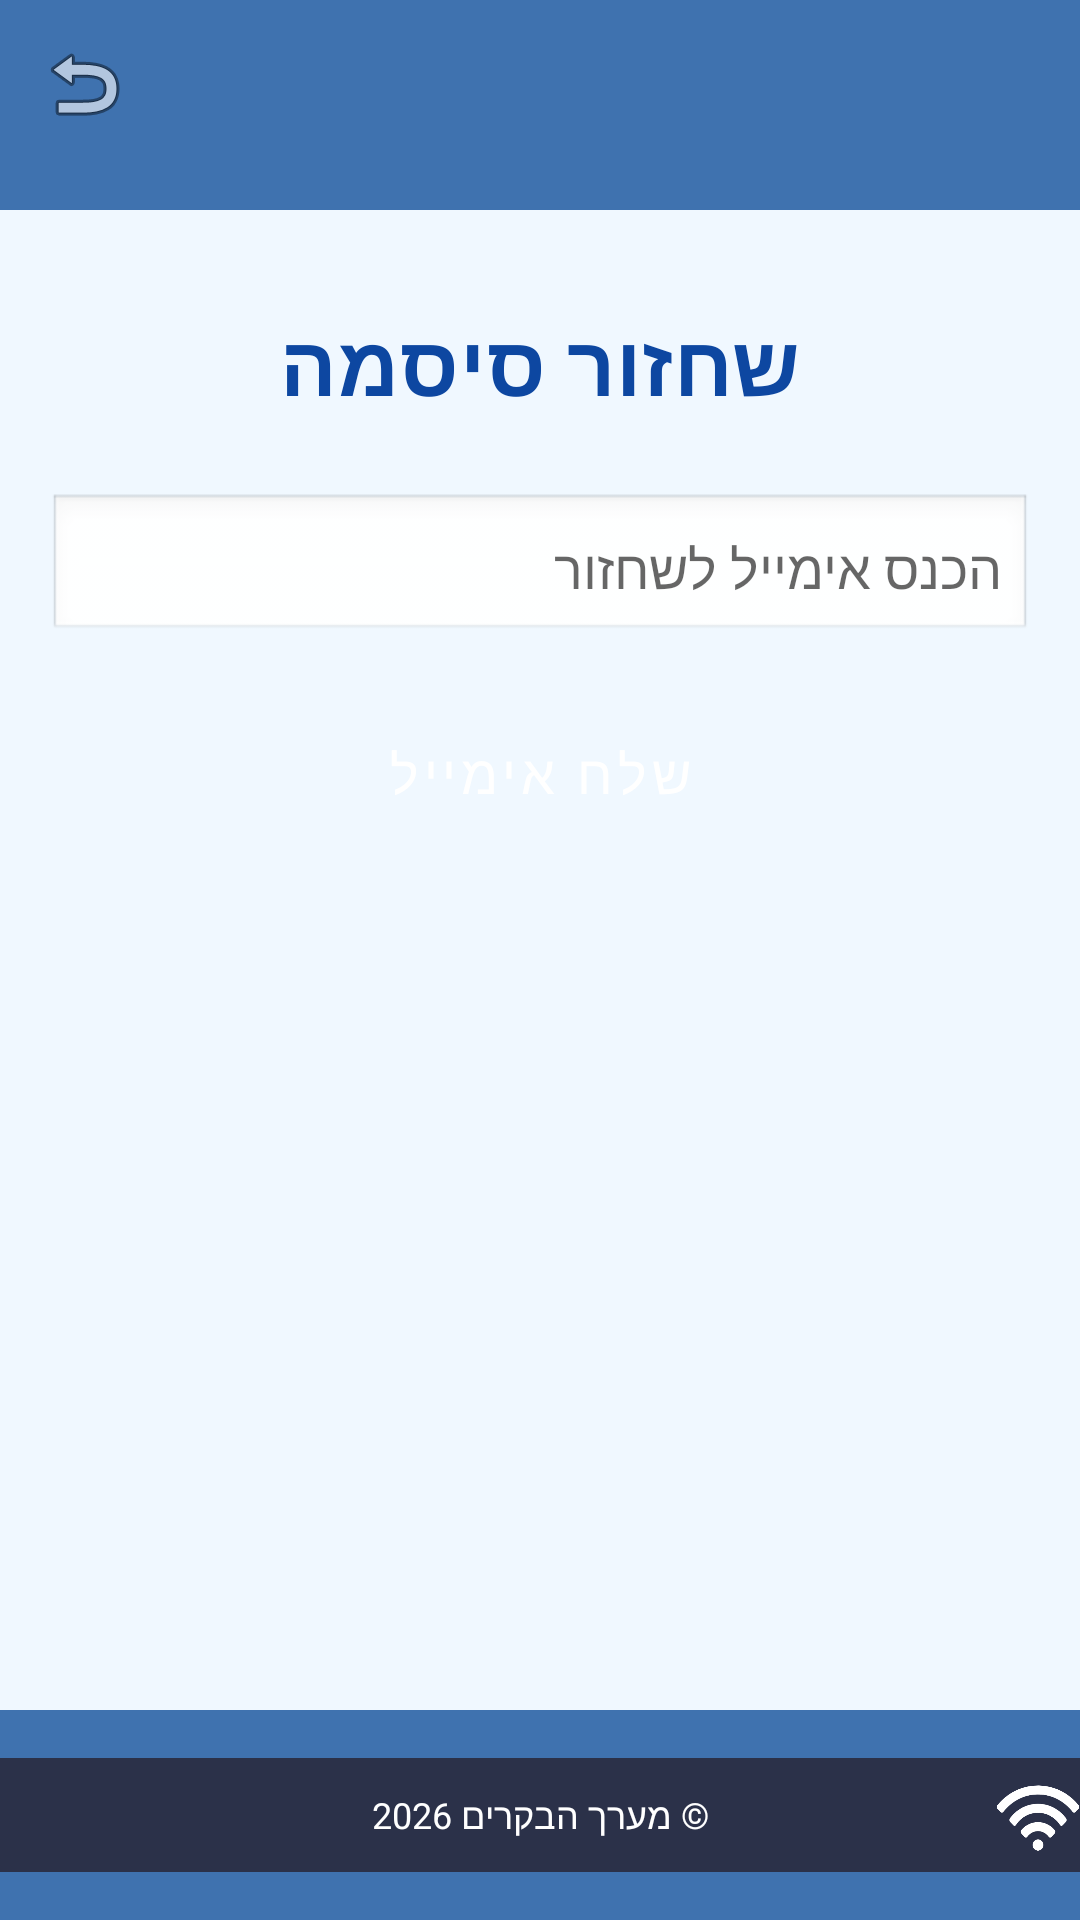

Where to tap for icons on this 1080 x 1920 app screen, as (x,y):
wifi: (1038,1818)
